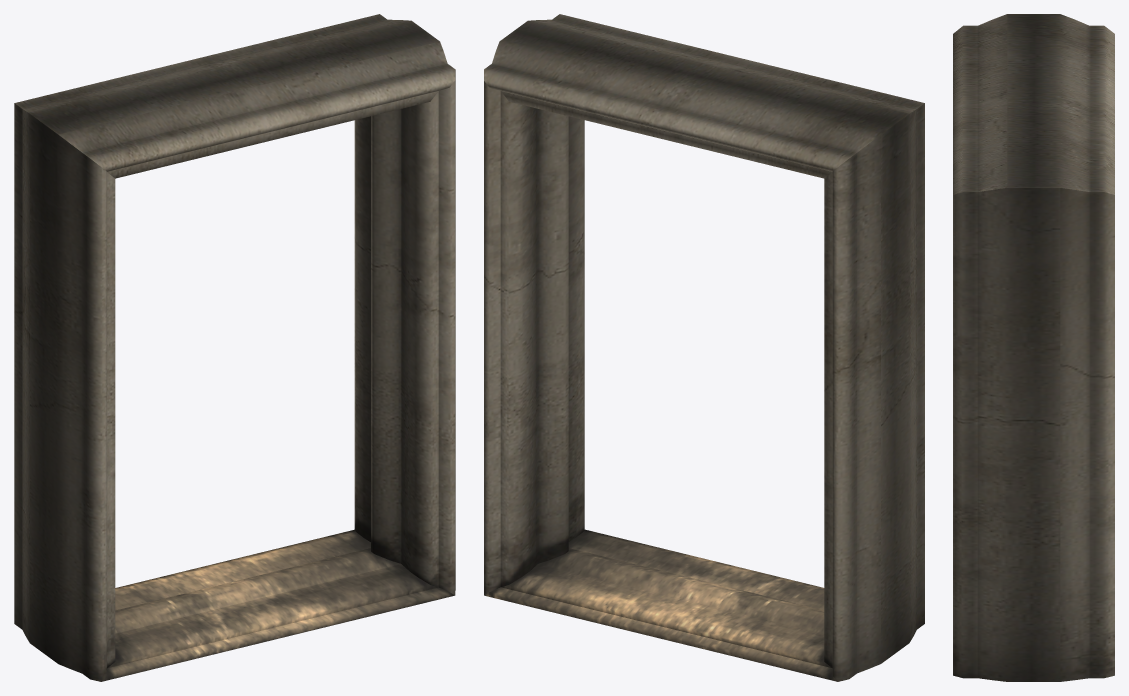
The model's file is door_frame01.dae.
3 renders of one model, left to right at view 1: azimuth 30°, elevation 25°; view 2: azimuth 150°, elevation 25°; view 3: azimuth 270°, elevation 25°, orthographic. The views are drawn at different scales.
Visible parts, largest first — view 1: mansionbase_doorframe; view 2: mansionbase_doorframe; view 3: mansionbase_doorframe.
Part boxes in pixels (x1,y1,x2,y2): mansionbase_doorframe: [14, 14, 455, 681]; mansionbase_doorframe: [484, 14, 924, 681]; mansionbase_doorframe: [953, 14, 1114, 681].
Bounding box in the file's own units: 2.42 × 3.21 × 0.9526.
